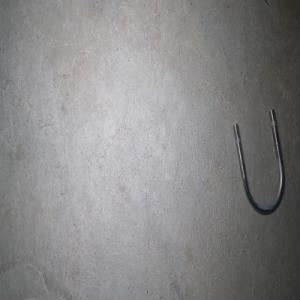ClampPart: (232, 108, 285, 216)
